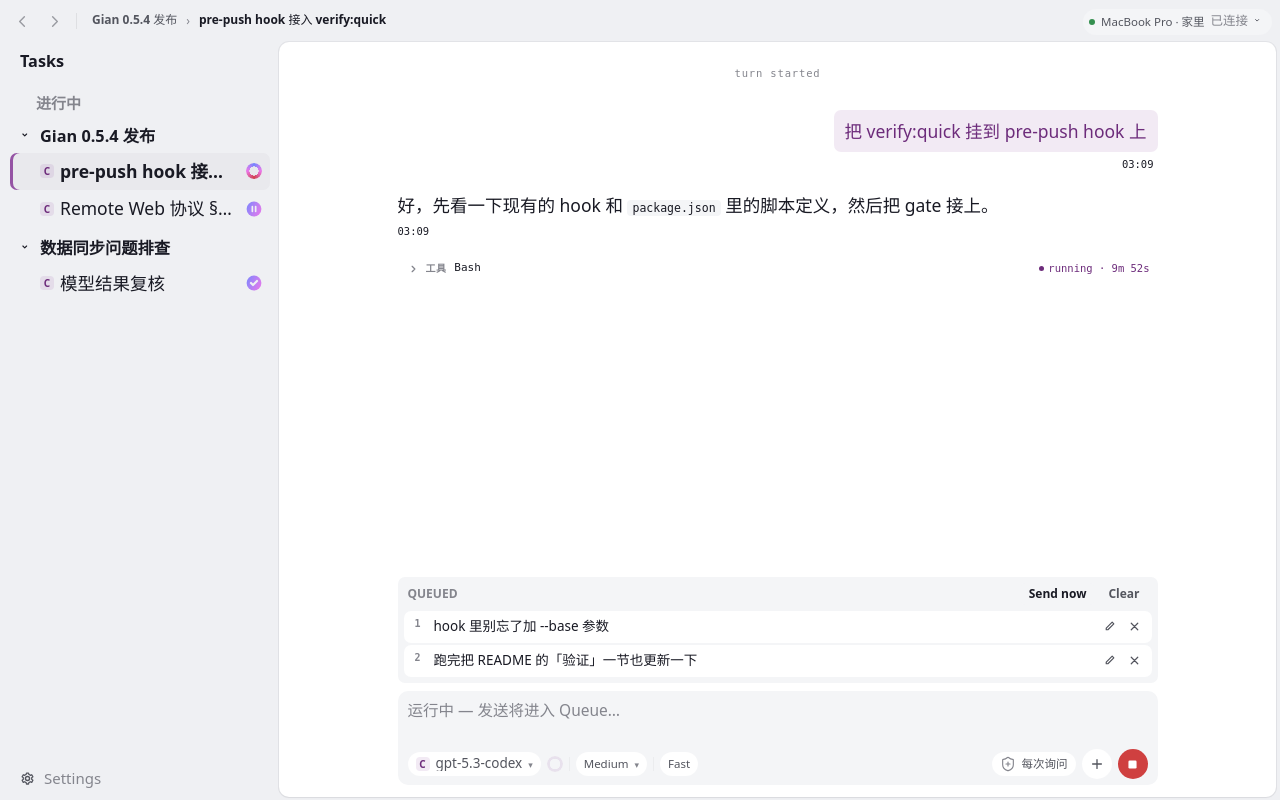
Test: chat + composer (B5) › production capabilities hide context and document entries that would fail on Host
The width and height of the screenshot is (1280, 800).
Click the button named "添加附件 / context / 文档": (1096, 764) [1082,749,1112,779]
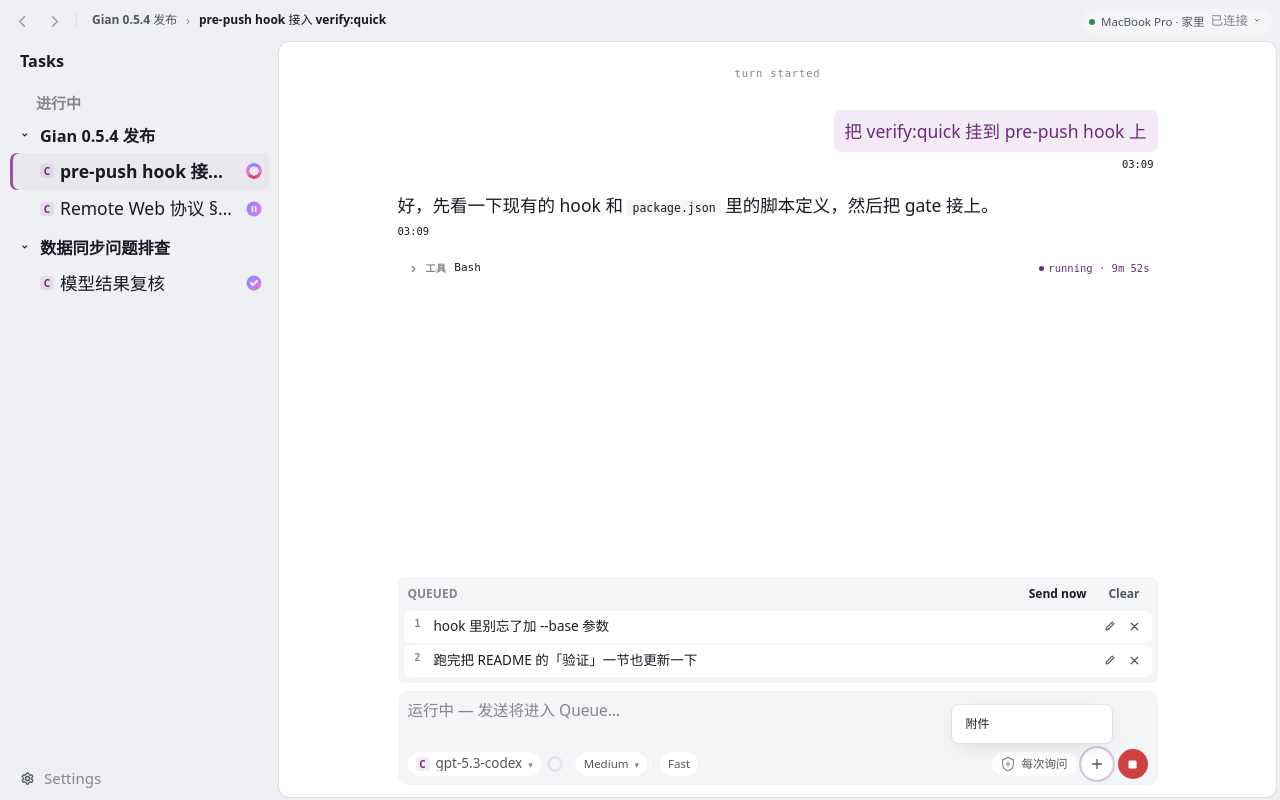
Check: the menu item "附件" is shown, box [956,709,1108,739]
